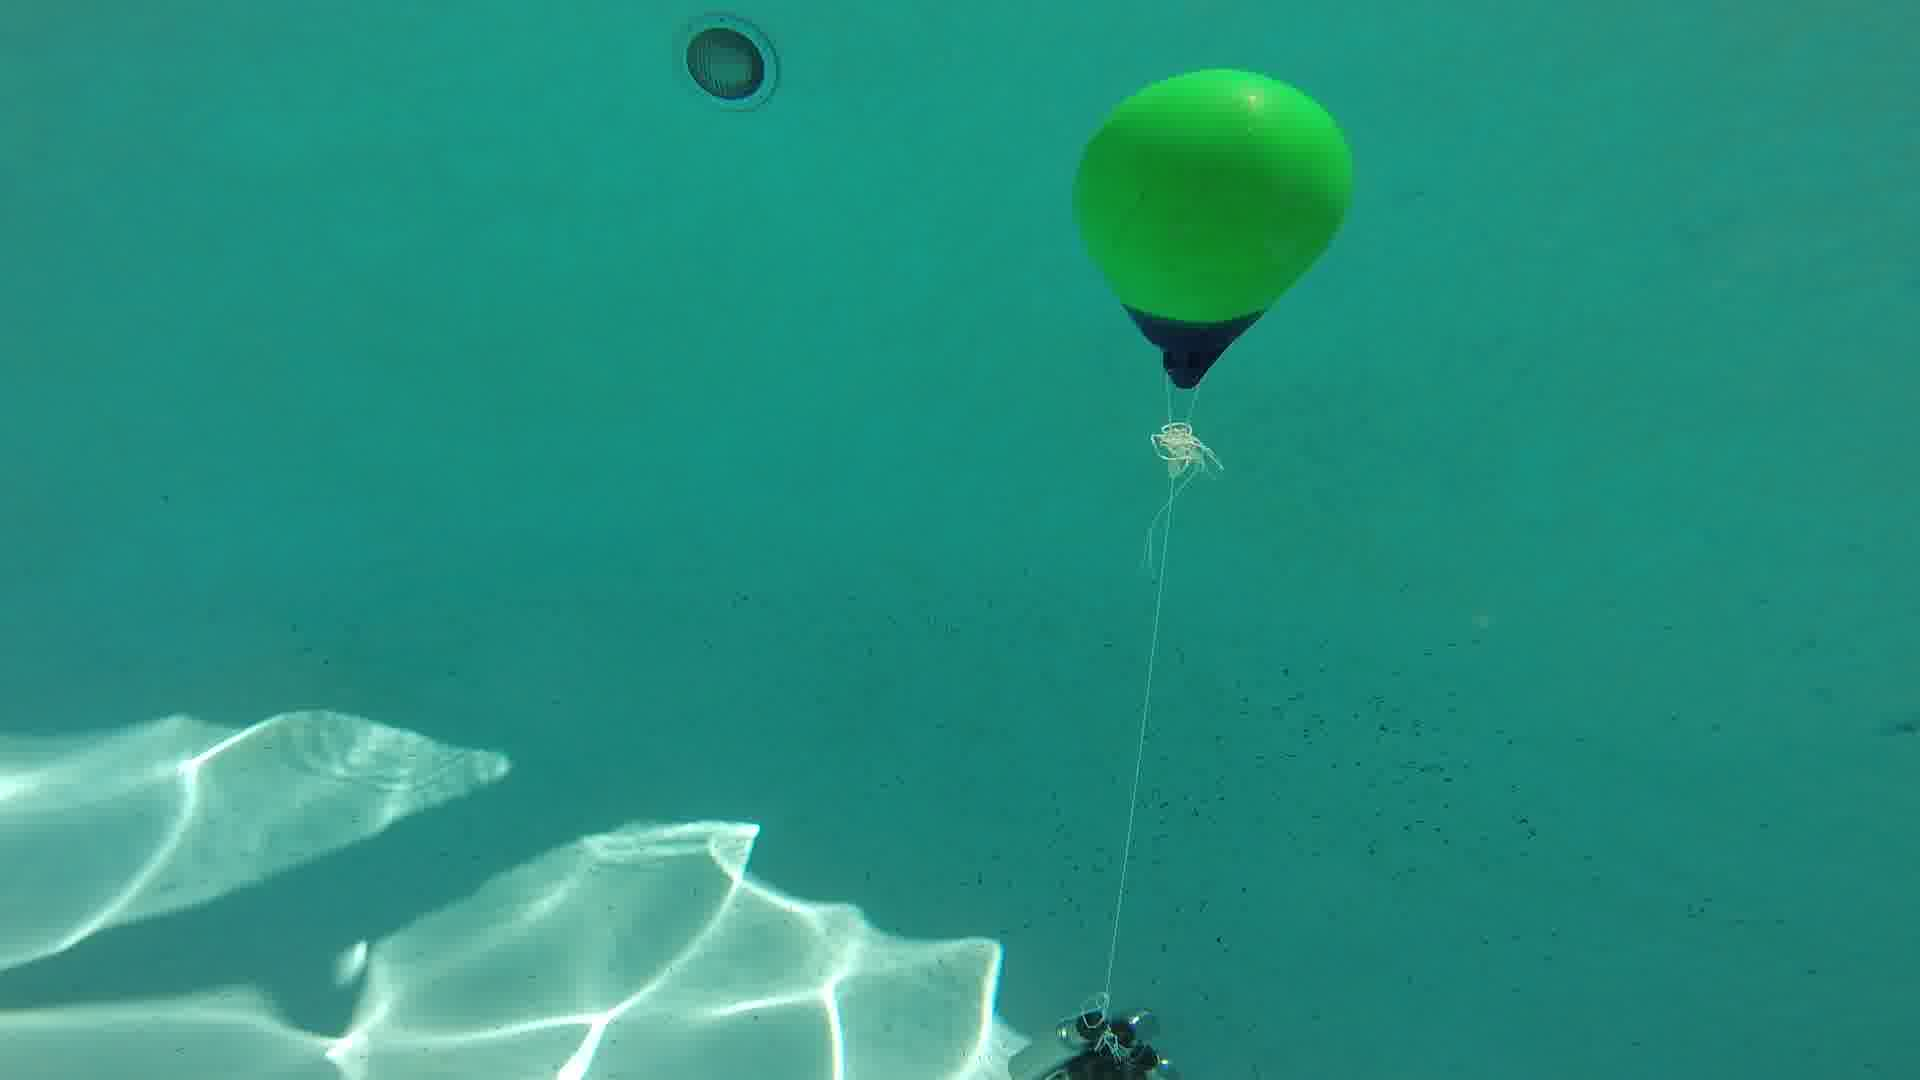yellow_buoy: (1073, 61, 1360, 393)
